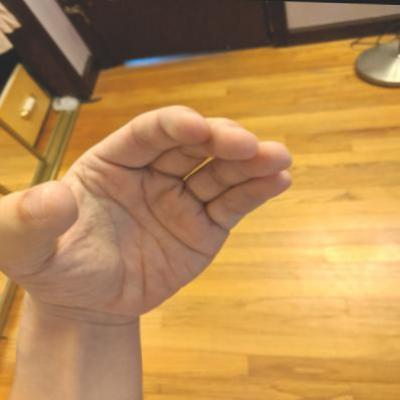hand: (0, 90, 301, 334)
